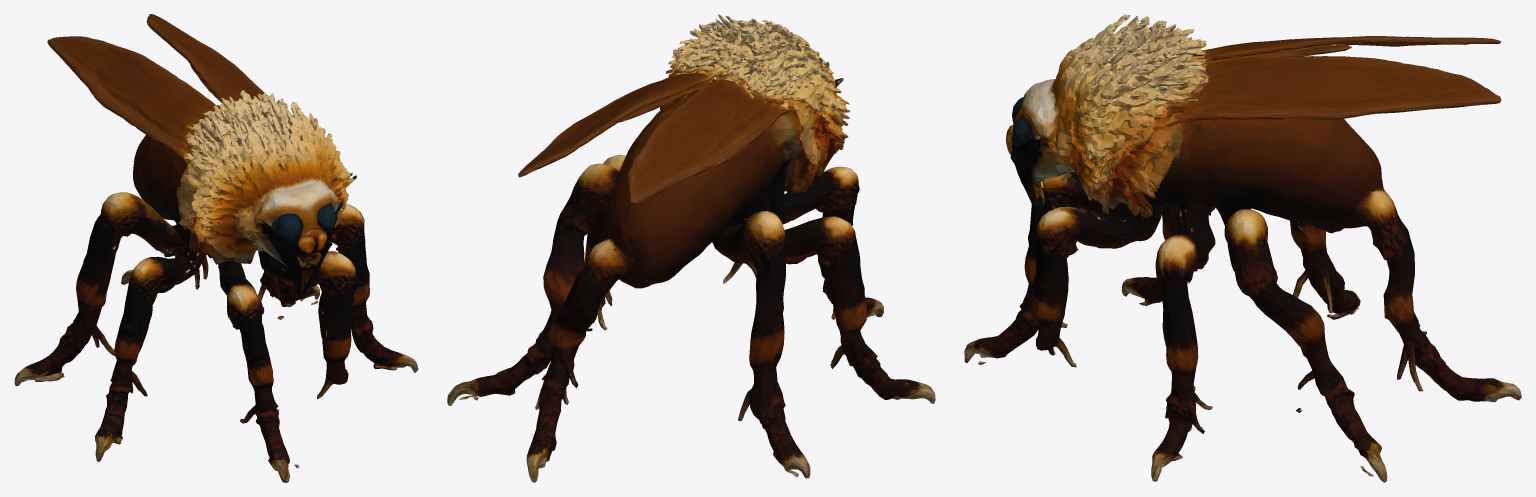
The model's file is insect_armabeeevolved.glb.
The picture shows the model from 3 angles, left to right: view 1: azimuth 30°, elevation 25°; view 2: azimuth 150°, elevation 25°; view 3: azimuth 270°, elevation 25°; orthographic projection. The views are drawn at different scales.
Visible parts, largest first — view 1: textured_mesh.obj; view 2: textured_mesh.obj; view 3: textured_mesh.obj.
Part boxes in pixels (x1=…): textured_mesh.obj: x1=14, y1=14, x2=418, y2=482; textured_mesh.obj: x1=447, y1=14, x2=935, y2=482; textured_mesh.obj: x1=964, y1=14, x2=1521, y2=482.
Size of the model in its own units: 1.59 by 1.44 by 1.98.
1 material, 1 textured.
